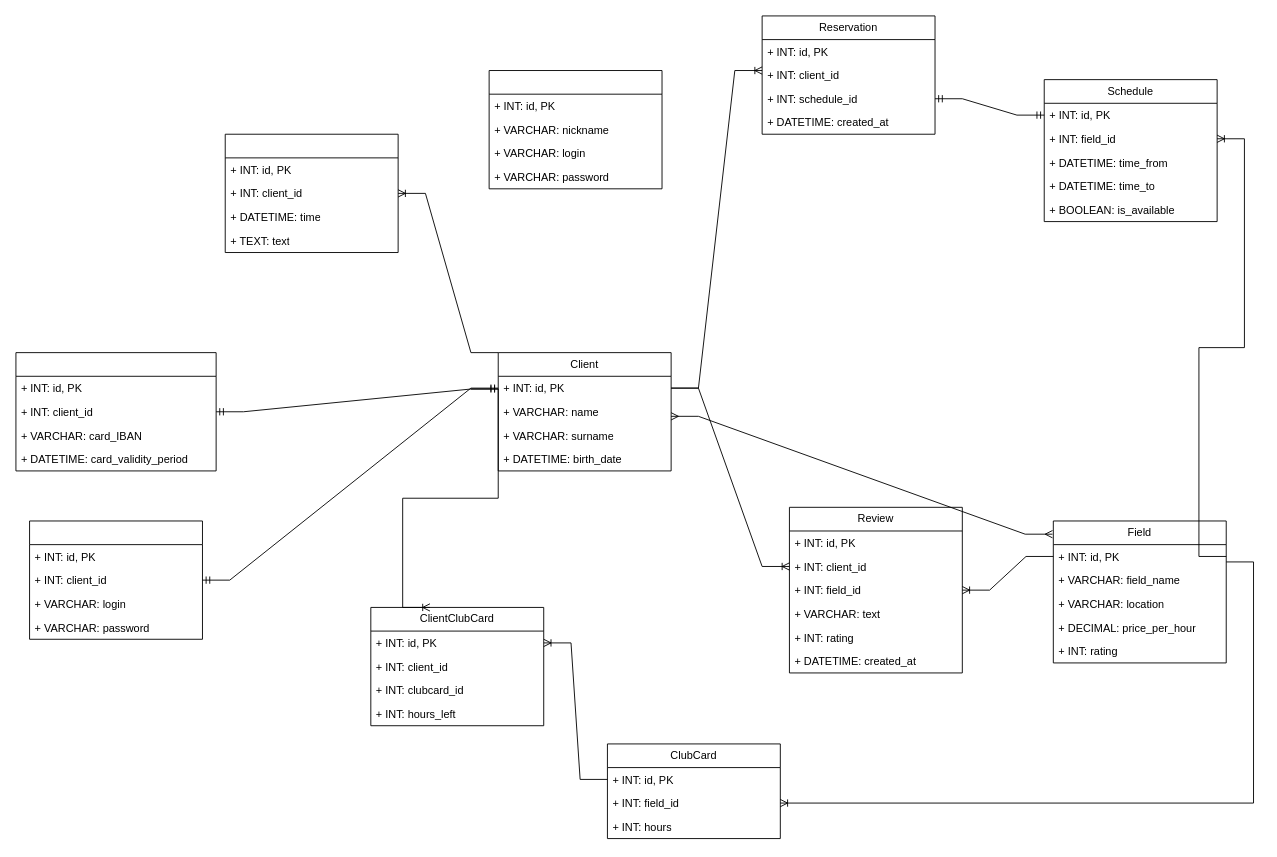
Some shapes in this 1277 by 857 pixel diagram are drawn without their labels. Here are the shapes that lost their labels. From the top down, the box of each, then its label:
(488, 70, 662, 189): Admin
(224, 133, 398, 253): Logs
(15, 352, 216, 471): ClientPaymentCredentials
(29, 520, 202, 639): ClientCredentials
